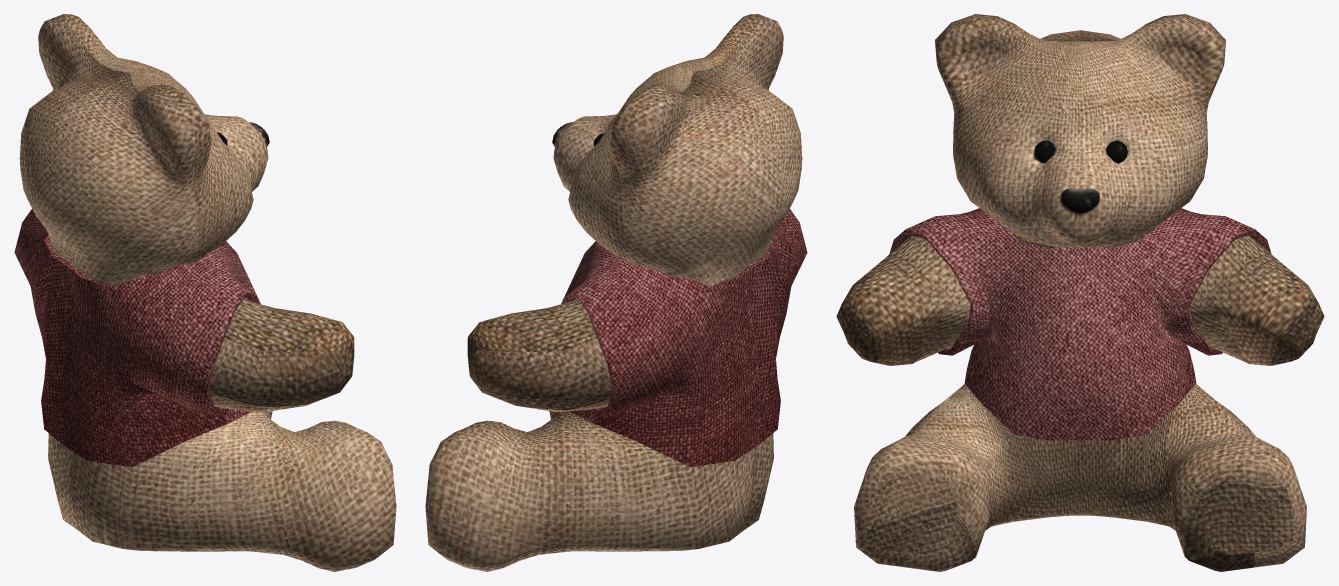
Rendered from teddy.FBX.
3 renders of one model, left to right at view 1: azimuth 30°, elevation 25°; view 2: azimuth 150°, elevation 25°; view 3: azimuth 270°, elevation 25°, orthographic.
Parts seen in each view (by area): view 1: Arch_44__070_4; view 2: Arch_44__070_4; view 3: Arch_44__070_4.
Boxes of the visible parts, bbox=[...] form: Arch_44__070_4: bbox=[14, 14, 396, 571]; Arch_44__070_4: bbox=[425, 14, 807, 571]; Arch_44__070_4: bbox=[836, 14, 1324, 571].
Bounding box in the file's own units: 197 × 354 × 326.
